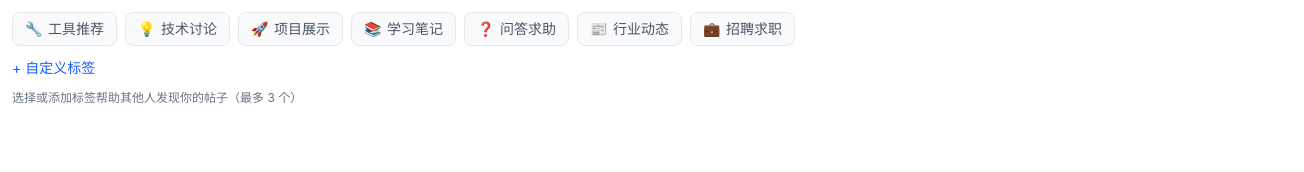
it: TagSelector › 自定义标签输入 › 点击自定义标签按钮显示输入框
Click the button "+ 自定义标签". click: x=54, y=68
box: [12,58,95,78]
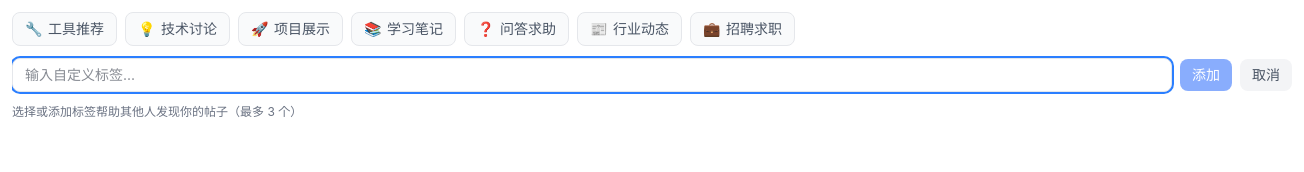
Expected: the field with placeholder "输入自定义标签..." is shown, [12,58,1172,92]
Expected: the button "添加" is shown, [1180,59,1232,91]
Expected: the button "取消" is shown, [1240,59,1292,91]
